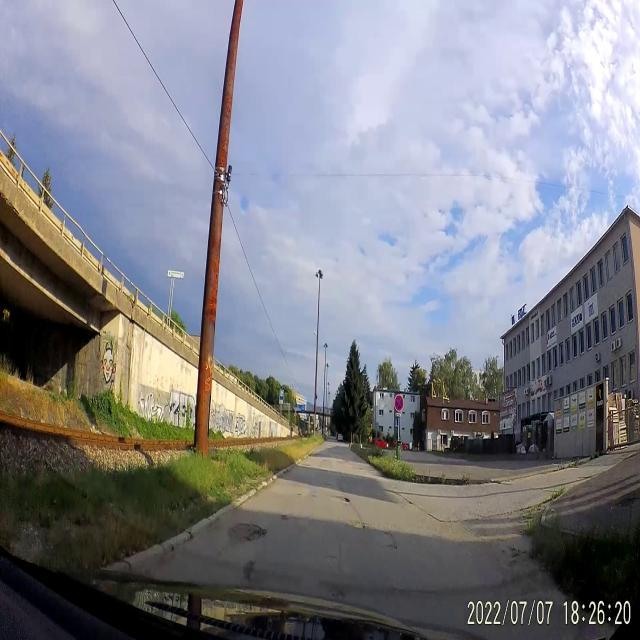Pothole: (228, 512, 272, 555), (340, 520, 376, 532), (328, 489, 350, 503)
